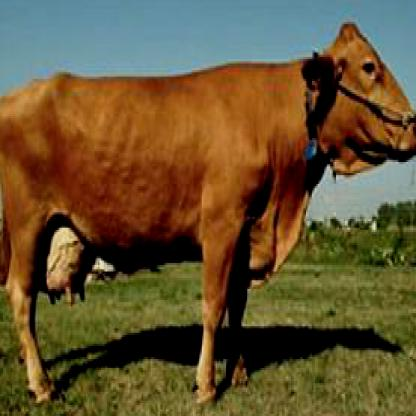cow: (1, 22, 415, 405)
